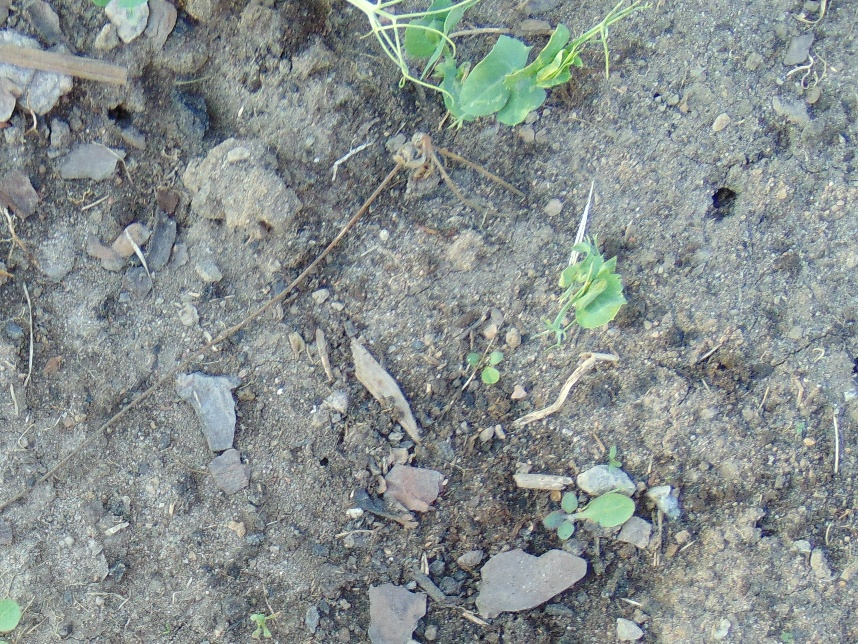crop: (350, 1, 636, 128), (542, 237, 626, 341)
weed: (546, 488, 634, 542), (469, 352, 507, 385)
